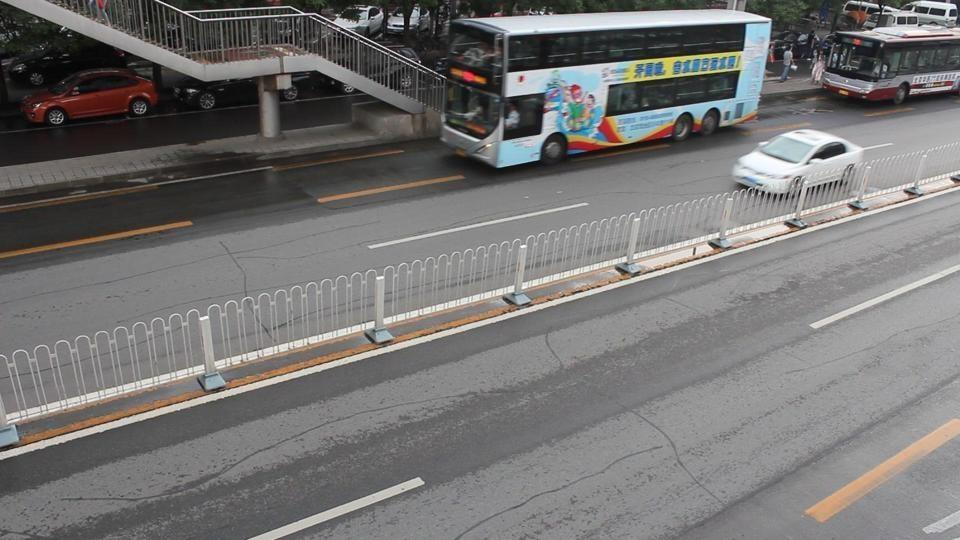car: (731, 127, 865, 194), (19, 69, 161, 127), (2, 46, 80, 89), (333, 5, 386, 38)
